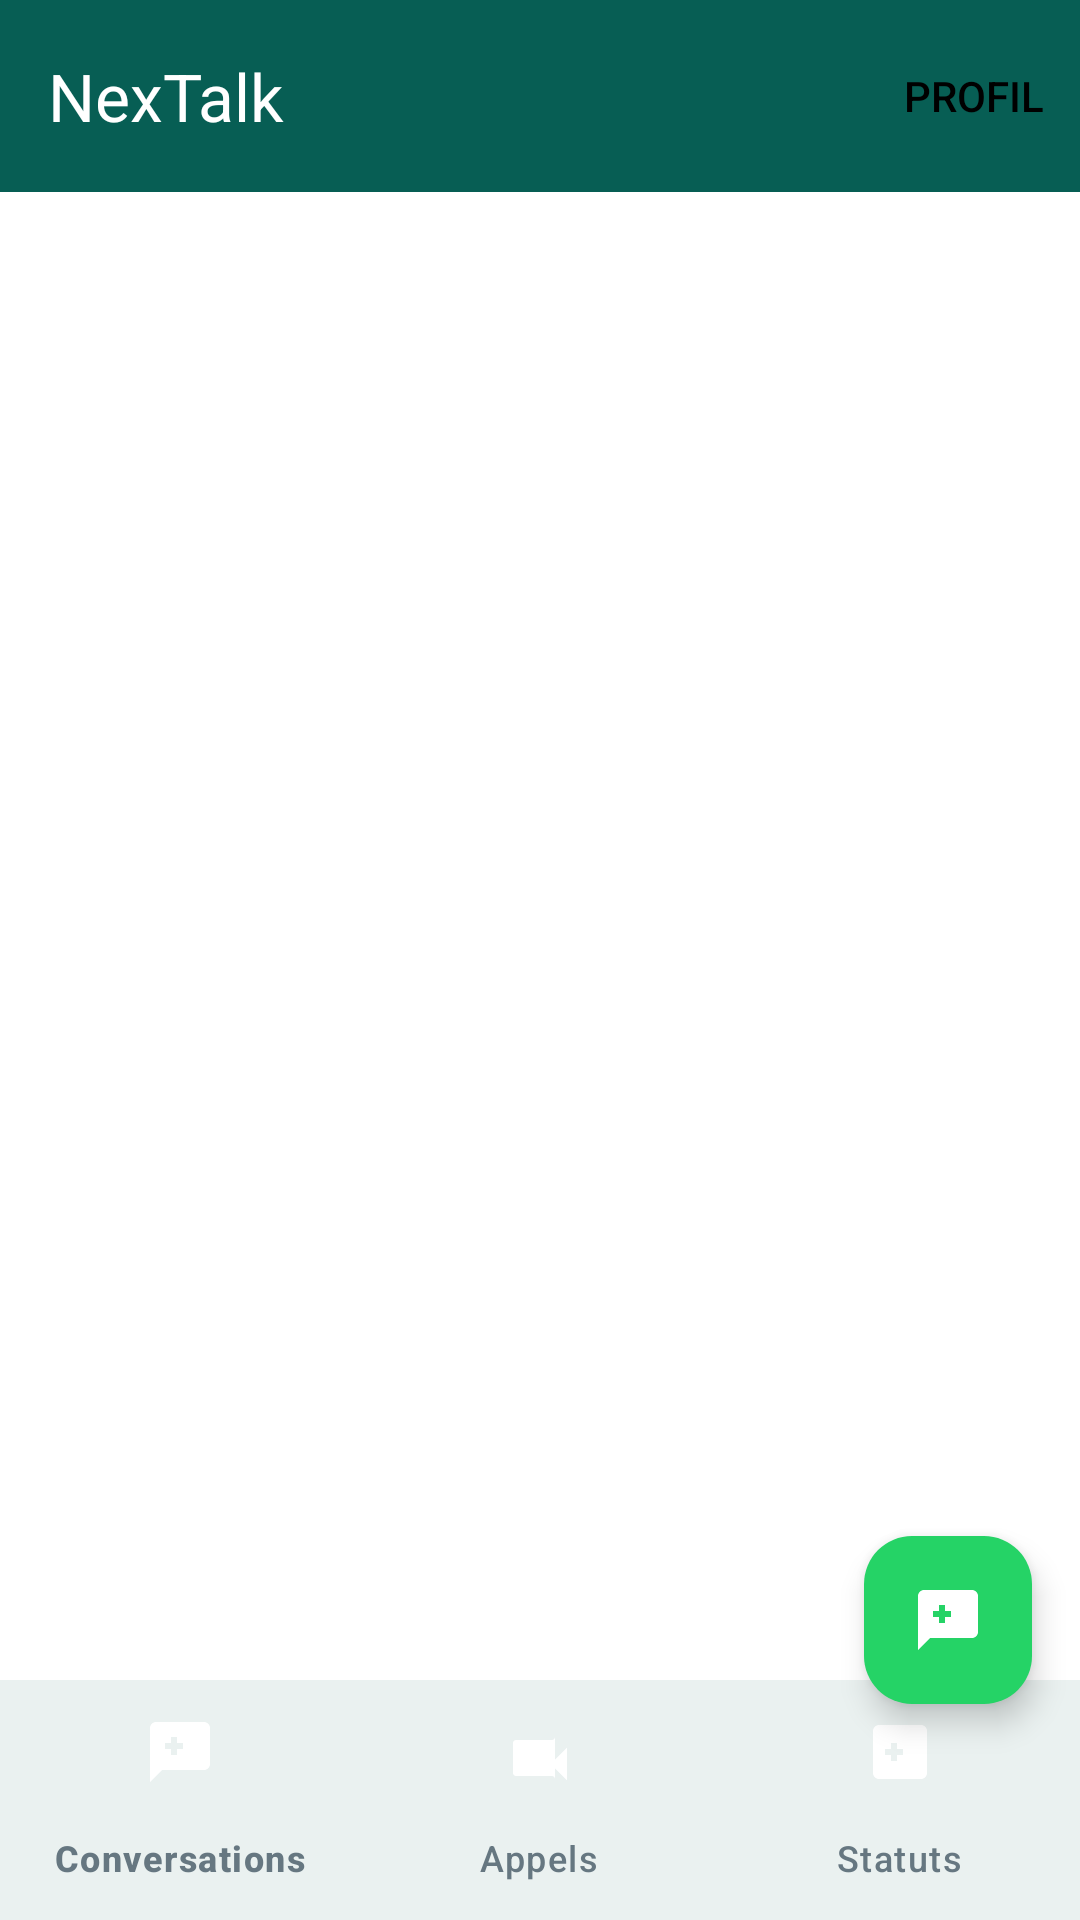

Icon click points for this 1080x1920 phone screenshot, format [x,y]:
Nouveau chat: [948,1620]
